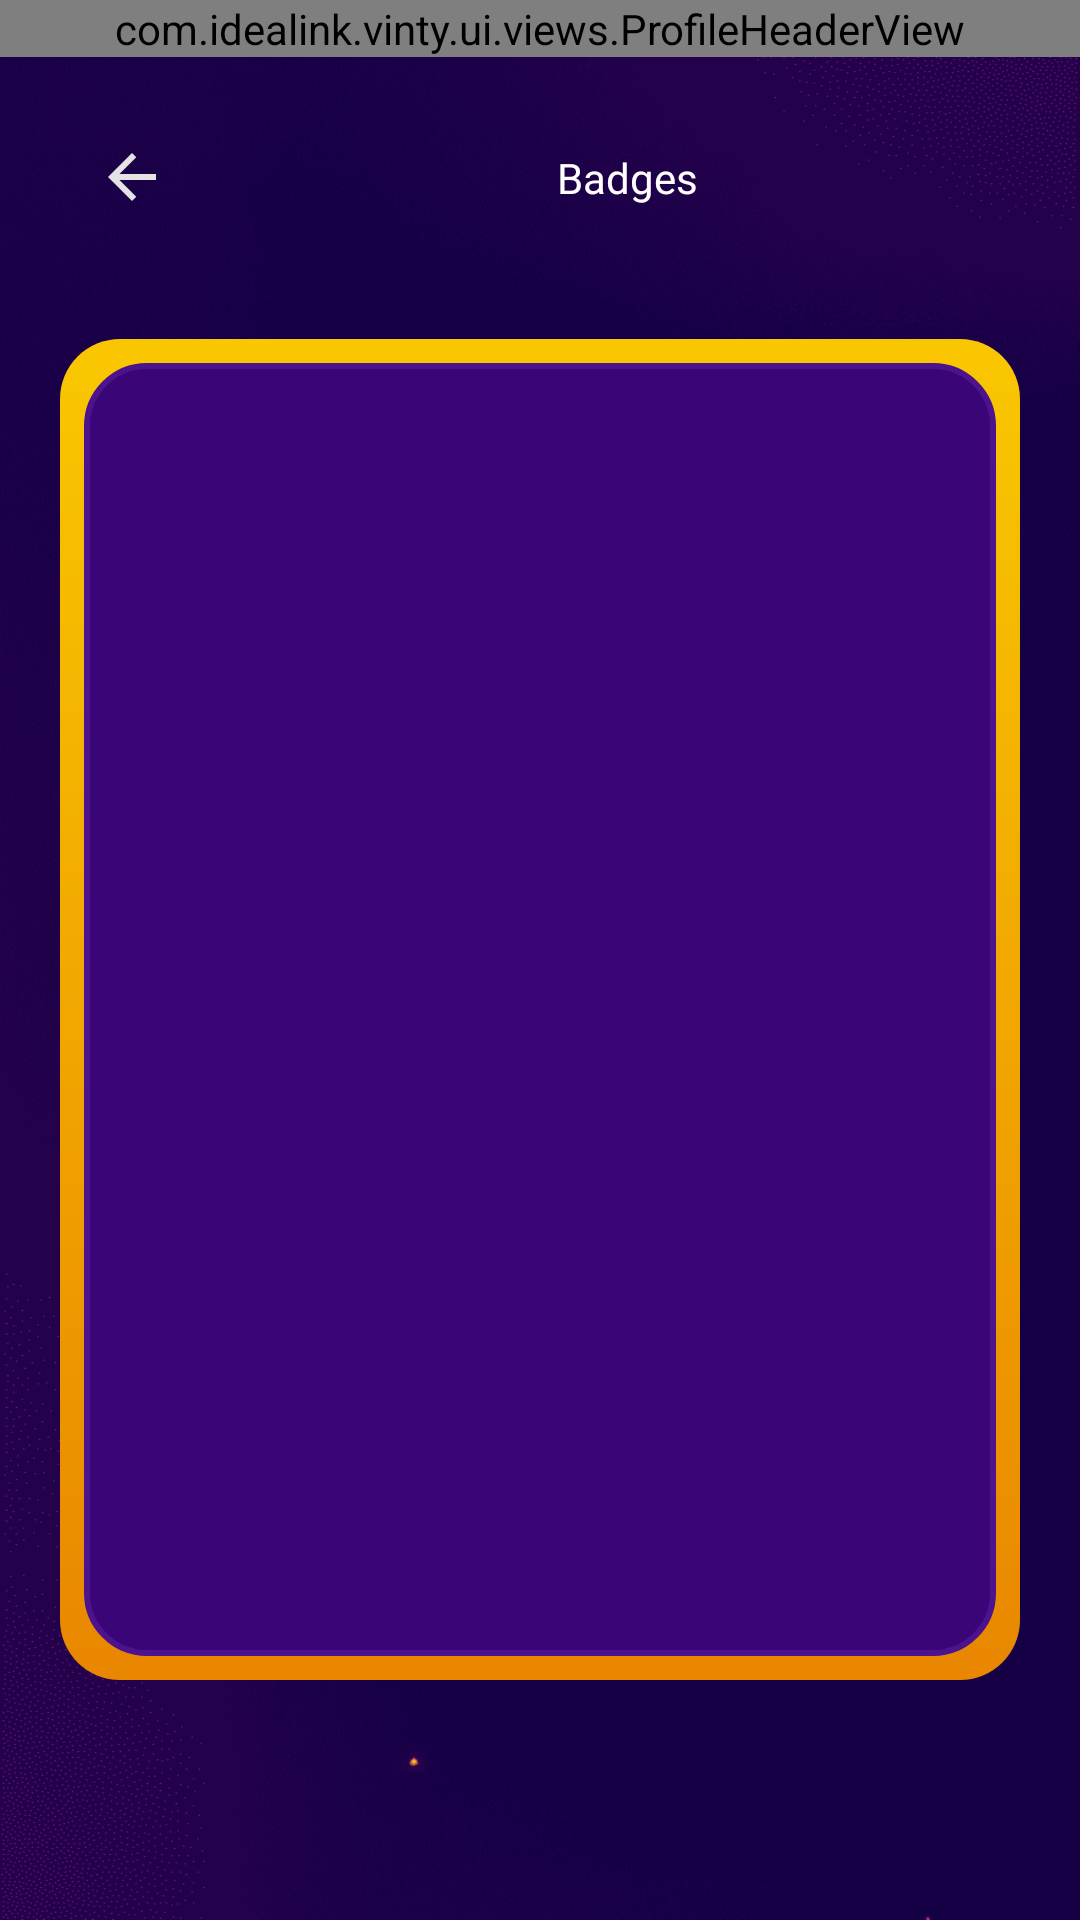

Where icons sit on this 1080×1920 app screen, as (x1, y1, x2, y2):
arrow back: (108, 153, 156, 201)
